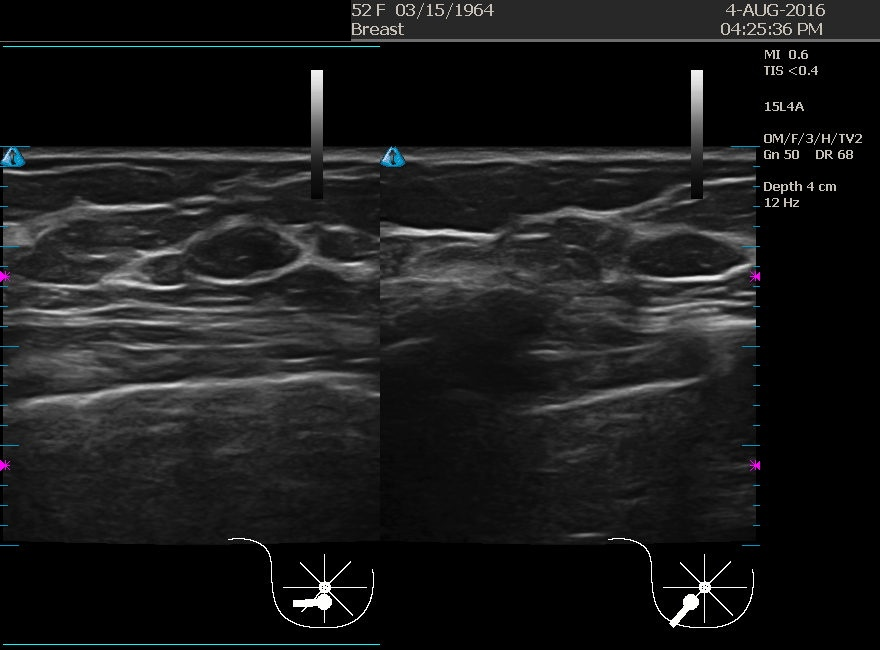BIRADS_3: (540, 201, 740, 402), (110, 150, 310, 350)
